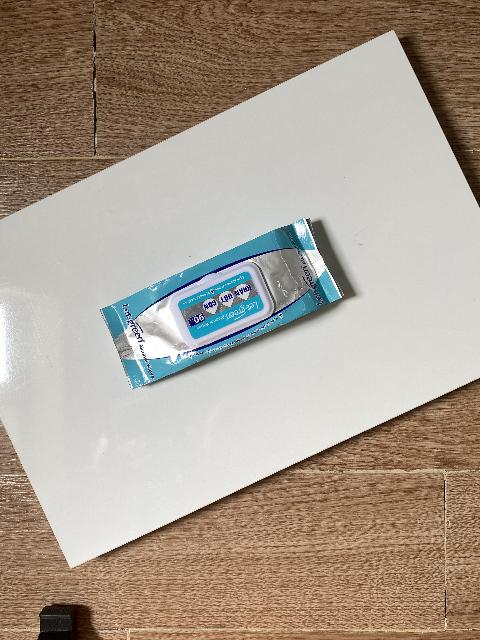Let-green_alcohol_wipes: (100, 217, 345, 390)
